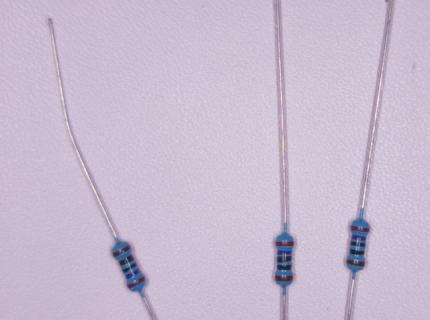Black band: (119, 255, 134, 266), (122, 262, 137, 273), (349, 249, 365, 256), (350, 241, 366, 248), (276, 265, 292, 270), (277, 257, 292, 262)
Brown band: (112, 245, 131, 258), (346, 259, 365, 267), (275, 276, 294, 281)
Red band: (127, 276, 147, 290), (351, 225, 370, 233), (276, 241, 294, 246)
Violet band: (125, 268, 141, 280), (352, 235, 366, 242), (277, 250, 292, 255)
